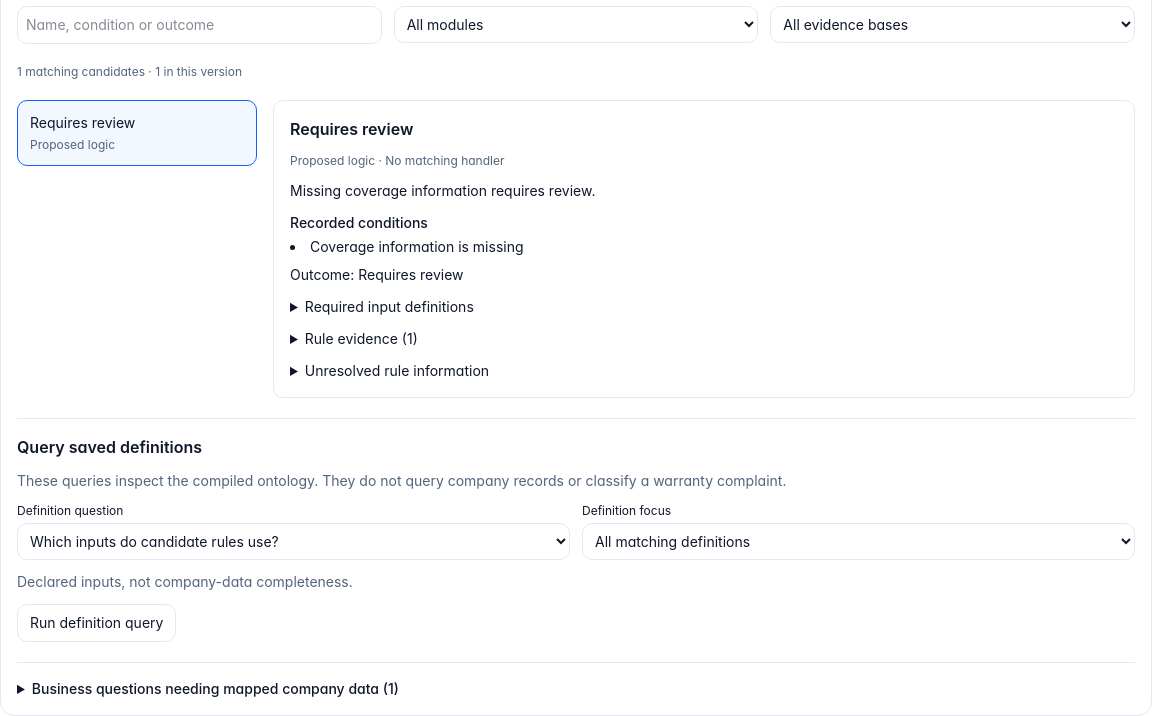
Test case: keeps query failures visible and permits a safe catalogue refresh
Later steps or results of the test are not shown.
(page scrolled)
Click the button "Run definition query".
click(97, 623)  # box [17,604,176,642]
(page scrolled)
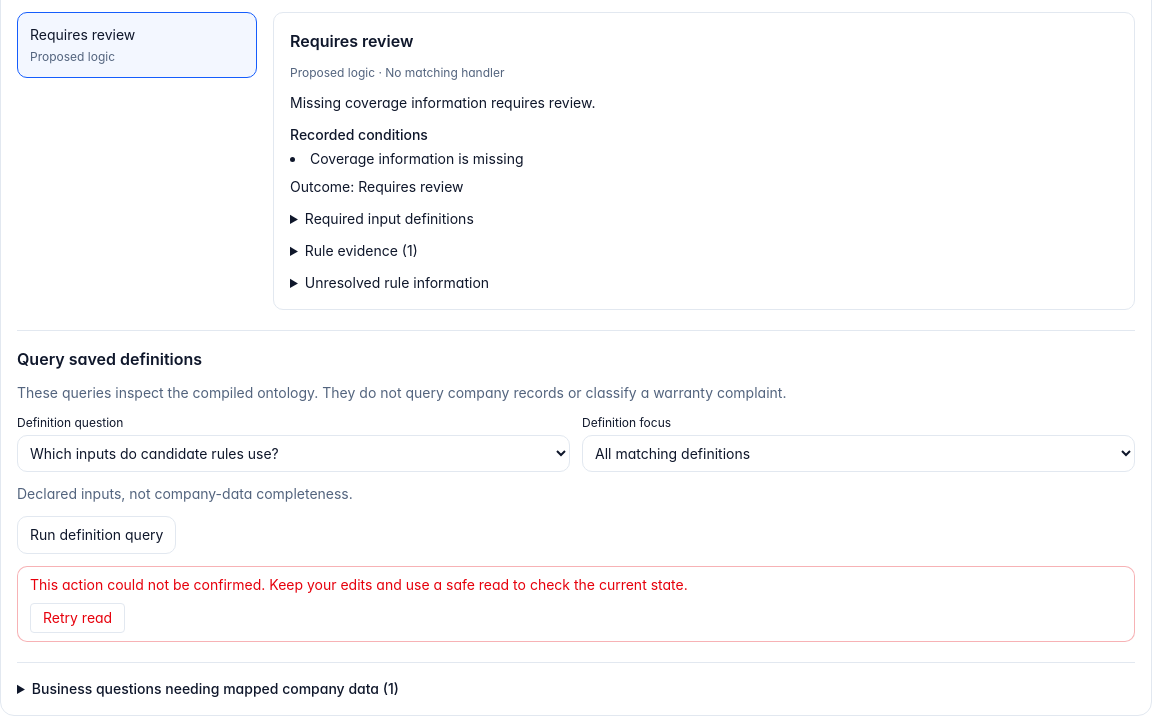
Check: the message is shown, box [17,566,1135,642]
